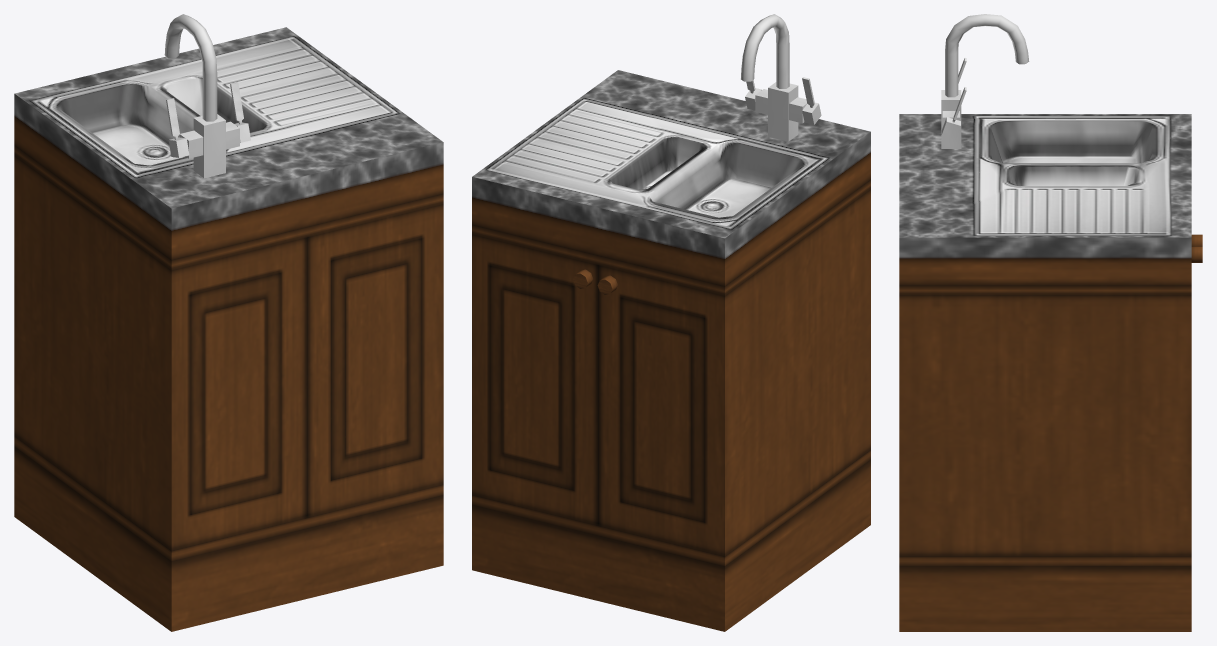
The model's file is KitchenFaucet.fbx.
The picture shows the model from 3 angles, left to right: view 1: azimuth 30°, elevation 25°; view 2: azimuth 150°, elevation 25°; view 3: azimuth 270°, elevation 25°; orthographic projection. The views are drawn at different scales.
Parts seen in each view (by area): view 1: KitchenFaucet; view 2: KitchenFaucet; view 3: KitchenFaucet.
Boxes of the visible parts, x1=… form: KitchenFaucet: x1=14, y1=14, x2=443, y2=631; KitchenFaucet: x1=472, y1=14, x2=870, y2=631; KitchenFaucet: x1=899, y1=14, x2=1202, y2=631.
Bounding box in the file's own units: 5 × 9.89 × 5.19.
